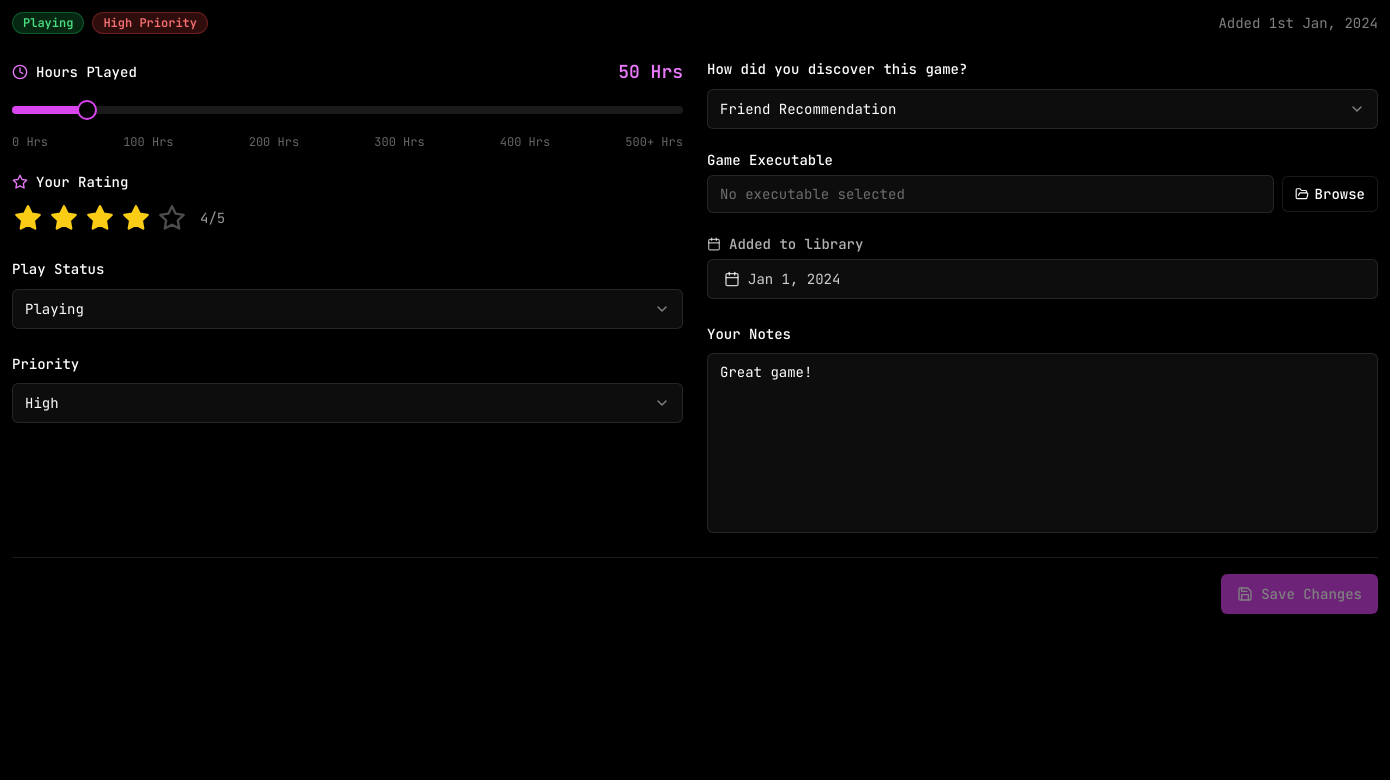
it: MyProgressTab › keeps a user edit when the store changes underneath it
The width and height of the screenshot is (1390, 780).
Replace the text in the text box showing "Great game!" with "mine" at (1042, 443), box x1=707 y1=353 x2=1378 y2=533
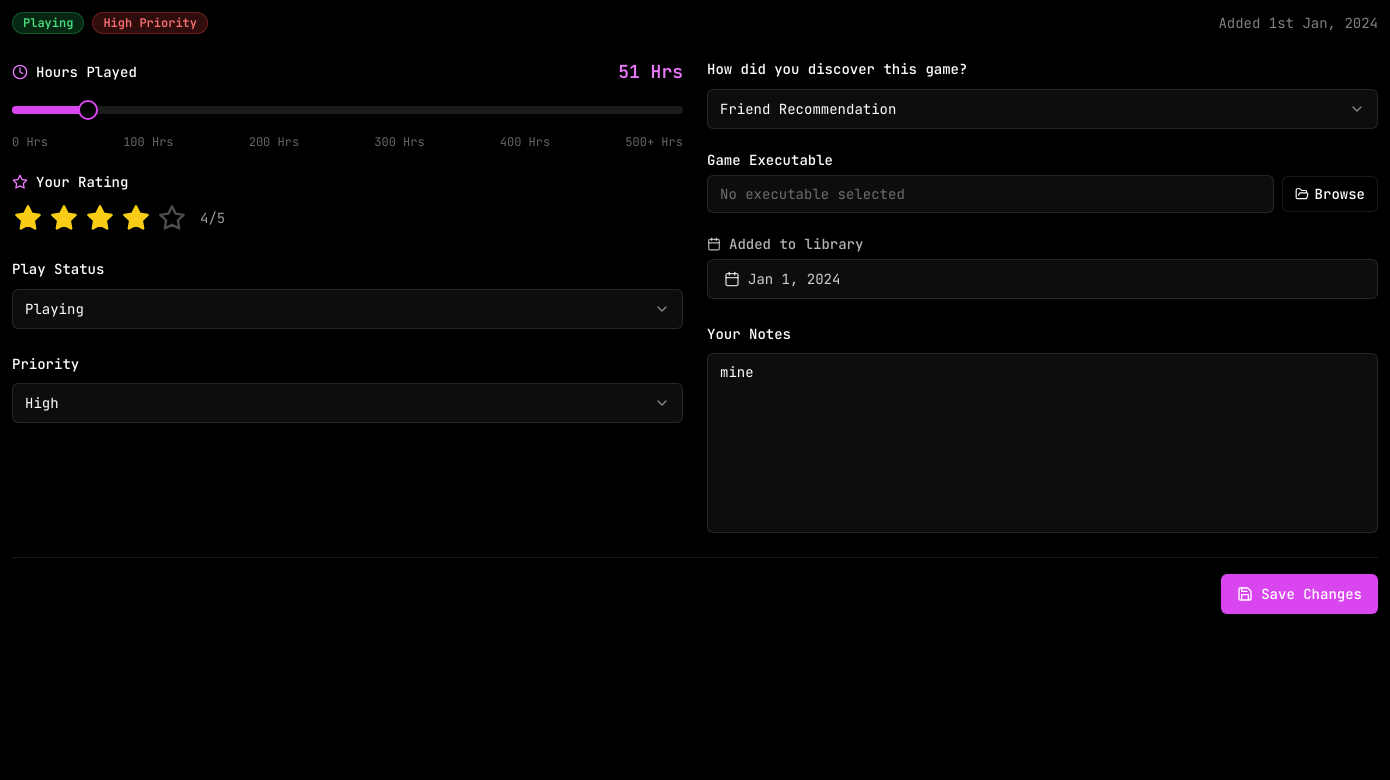
Expected: the text "51 Hrs" is shown, x1=618 y1=58 x2=683 y2=86
